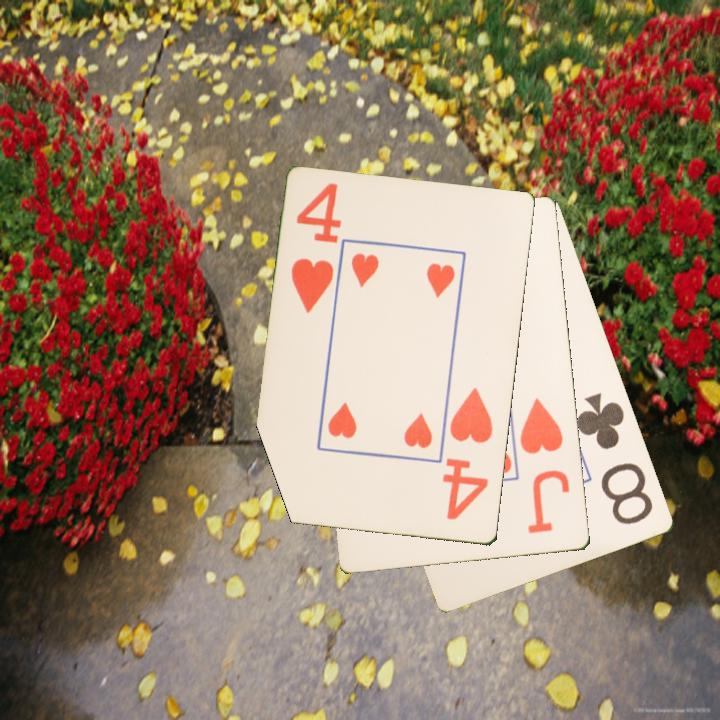4h: (440, 385, 497, 524), (288, 180, 342, 317)
8c: (573, 389, 657, 528)
Jh: (517, 394, 573, 537)
